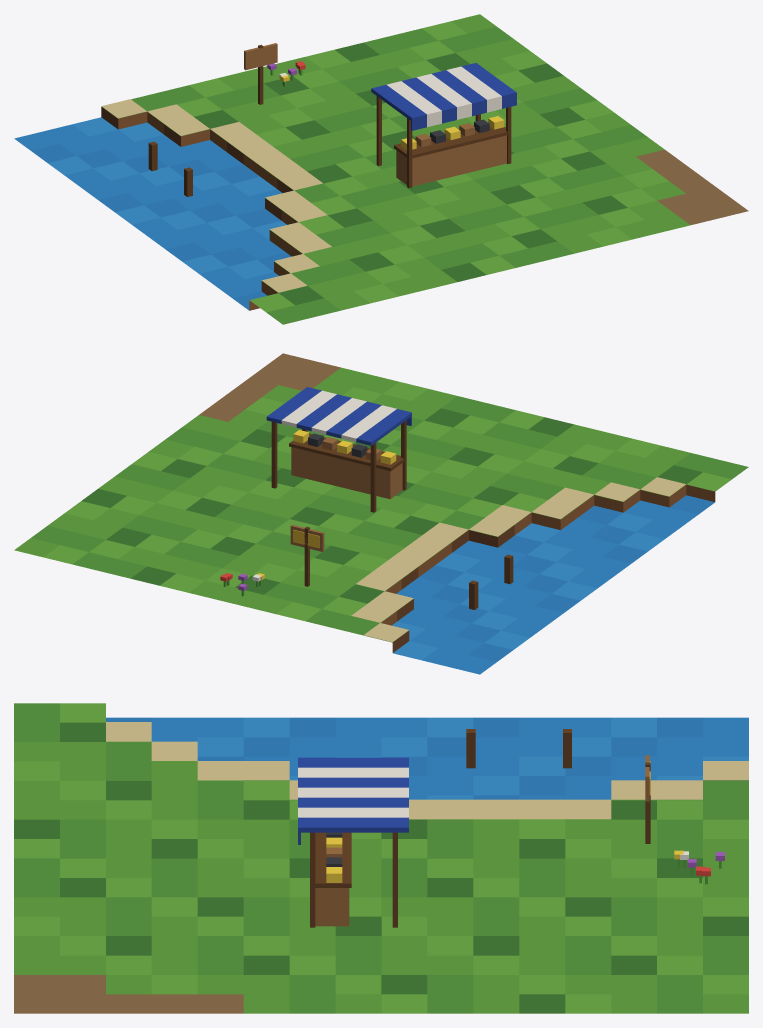
Rendered from chunk_5_15.glb.
3 views of the same model, one above another, from view 1: azimuth 30°, elevation 25°; view 2: azimuth 150°, elevation 25°; view 3: azimuth 270°, elevation 25° (orthographic). The views are drawn at different scales.
Visible parts, largest first — view 1: chunk_5_15; view 2: chunk_5_15; view 3: chunk_5_15.
Part boxes in pixels (bbox=[...]): chunk_5_15: bbox=[14, 14, 748, 324]; chunk_5_15: bbox=[14, 353, 748, 674]; chunk_5_15: bbox=[14, 703, 748, 1013].
Size of the model in its own units: 16 by 2.77 by 16.
